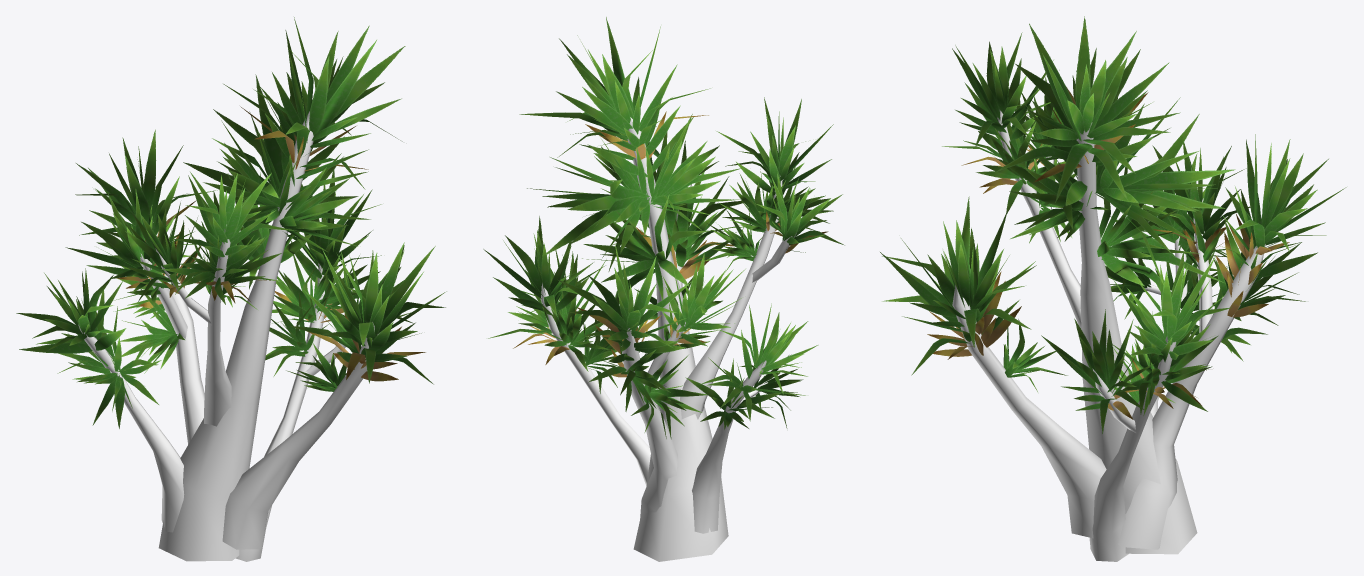
Rendered from SM_YuccaTree05.fbx.
3 views of the same model, side by side, from view 1: azimuth 30°, elevation 25°; view 2: azimuth 150°, elevation 25°; view 3: azimuth 270°, elevation 25° (orthographic). The views are drawn at different scales.
Parts seen in each view (by area): view 1: SM_YuccaTree05; view 2: SM_YuccaTree05; view 3: SM_YuccaTree05.
Boxes of the visible parts, box(x1,y1,x2,y2) form: SM_YuccaTree05: box(16, 17, 446, 561); SM_YuccaTree05: box(483, 17, 844, 561); SM_YuccaTree05: box(880, 16, 1346, 561).
Bounding box in the file's own units: 644 × 881 × 675.
